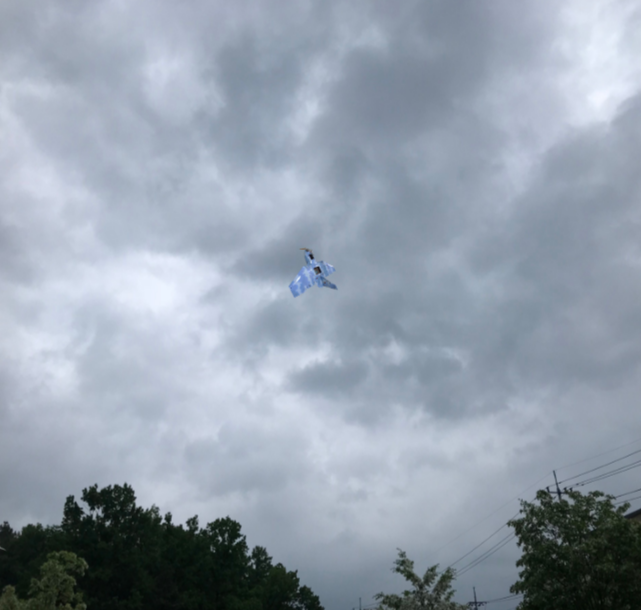military drone: (288, 247, 338, 297)
